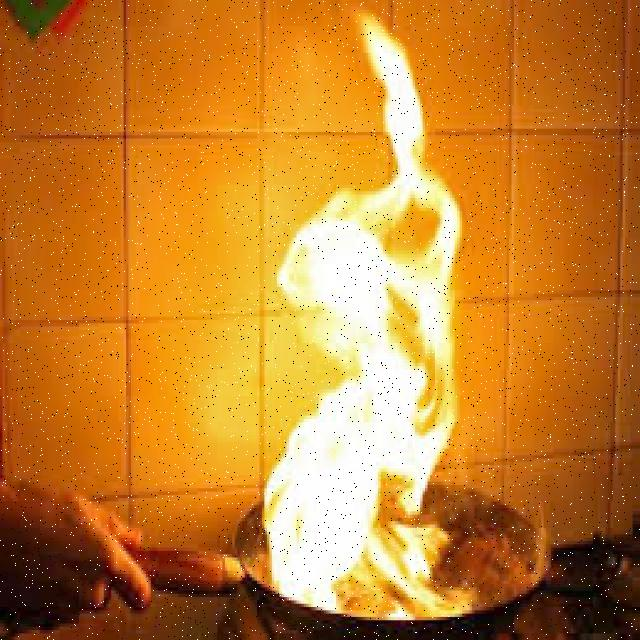fire: (264, 23, 452, 601)
